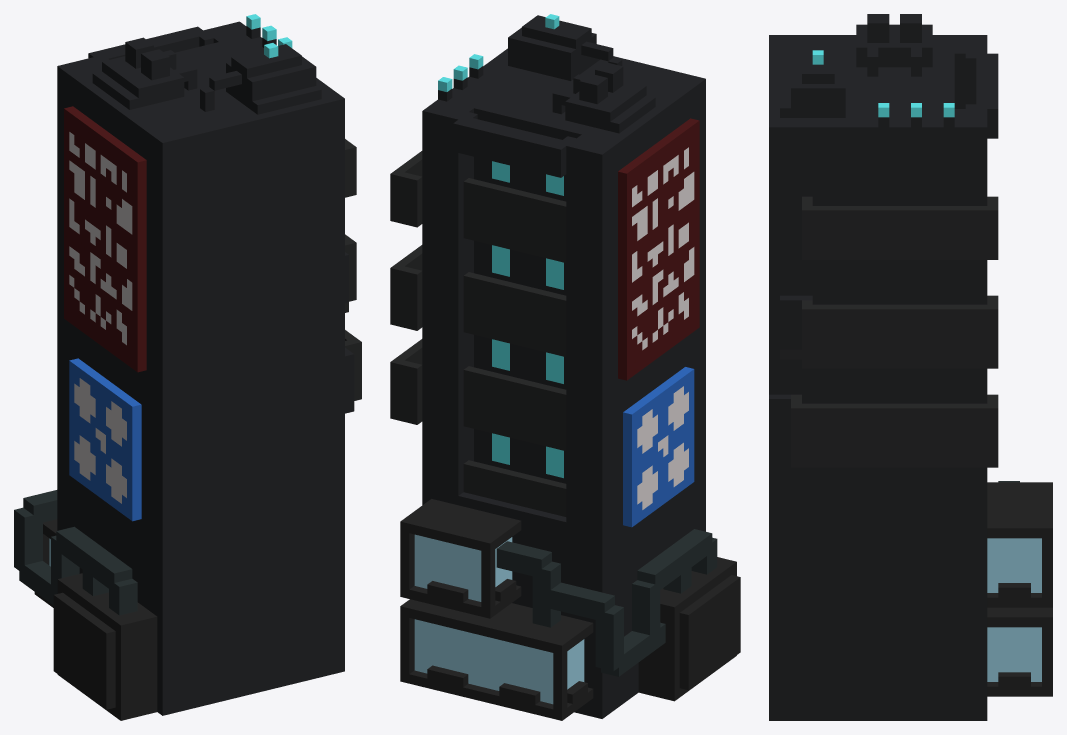
Rendered from torinoCyberPunk-10.obj.
3 renders of one model, left to right at view 1: azimuth 30°, elevation 25°; view 2: azimuth 150°, elevation 25°; view 3: azimuth 270°, elevation 25°, orthographic. The views are drawn at different scales.
Size of the model in its own units: 2.8 by 6.5 by 2.6.
Materials: 1 (1 with a texture image).
